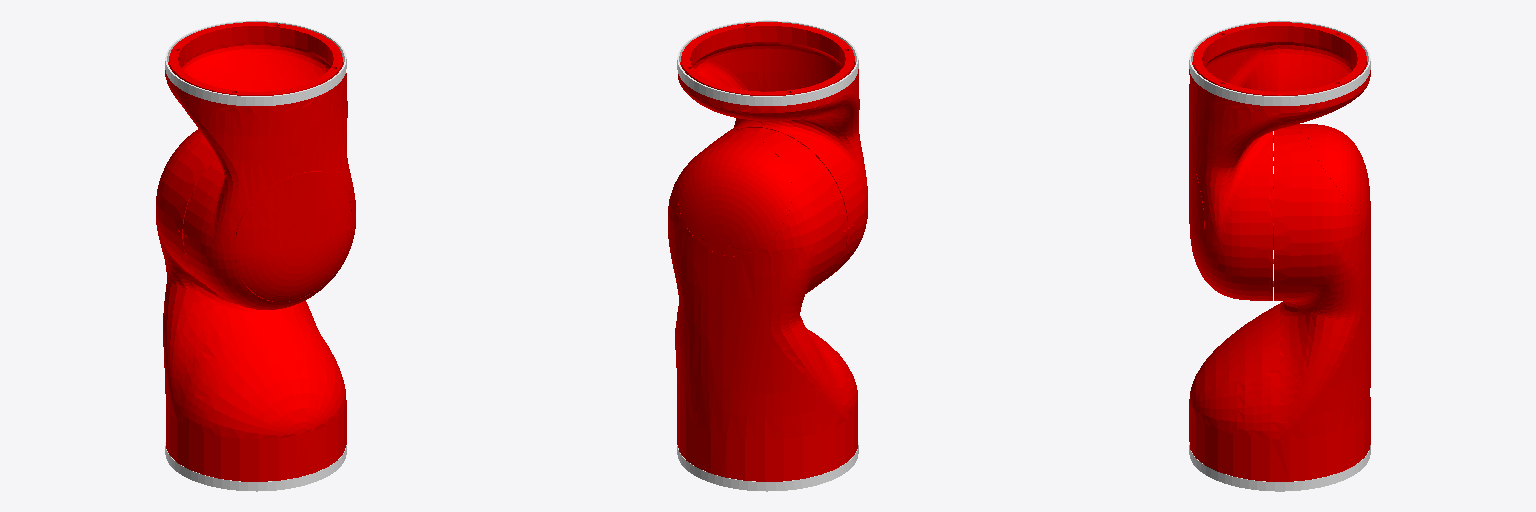
The robot description file, URDF, robot "T_module":
<robot name="T_module">

<!--the front visual link in T module-->
  <link name="VT_InLink">
    <inertial>
      <origin xyz="2.9038E-18 -2.1866E-18 0.0015" rpy="0 0 0" />
      <mass   value="8.4823E-05" />
      <inertia ixx="2.5447E-10" ixy="-1.2925E-27" ixz="4.3983E-28"
               iyy="2.5447E-10" iyz="3.5597E-27"  izz="3.817E-10" />
    </inertial>
    <visual>
      <origin   xyz="0 0 0"  rpy="0 0 0" />
      <geometry>
        <mesh   filename="package://mr_description/meshes/VT_InLink.STL" />
      </geometry>
      <material  name="">
        <color   rgba="1 1 1 1" />
      </material>
    </visual>
    <collision>
      <origin  xyz="0 0 0" rpy="0 0 0" />
      <geometry>
        <mesh filename="package://mr_description/meshes/VT_InLink.STL" />
      </geometry>
    </collision>
  </link>

<!--the front link in T module and the joint fixed with the front visual link-->
  <link  name="T_InLink">
    <inertial>
      <origin xyz="4.5327E-06 0.014724 0.10236" rpy="0 0 0" />
      <mass   value="0.8287" />
      <inertia   ixx="0.0027398"  ixy="-8.0424E-07"  ixz="-2.3991E-06"
       					 iyy="0.0028894"  iyz="0.00016467"   izz="0.00086451" />
    </inertial>
    <visual>
      <origin  xyz="0 0 0"  rpy="0 0 0" />
      <geometry>
        <mesh  filename="package://mr_description/meshes/T_InLink.STL" />
      </geometry>
      <material name="">
        <color  rgba="1 0 0 1" />
      </material>
    </visual>
    <collision>
      <origin  xyz="0 0 0"  rpy="0 0 0" />
      <geometry>
        <mesh filename="package://mr_description/meshes/T_InLink.STL" />
      </geometry>
    </collision>
  </link>
  <joint name="V_InJoint" type="fixed">
    <origin  xyz="0 0 0" rpy="0 0 0" />
    <parent  link="VT_InLink" />
    <child   link="T_InLink" />
    <axis    xyz="0 0 0" />
    <limit  lower="0" upper="0"  effort="0"  velocity="0" />
  </joint>

<!--the backend link in T module the joint in T module-->
  <link  name="T_OutLink">
    <inertial>
      <origin xyz="2.0762E-05 -0.0094284 0.014486" rpy="0 0 0" />
      <mass  value="1.4322" />
      <inertia   ixx="0.0018144"  ixy="-1.0634E-06"  ixz="9.3521E-08"
      					 iyy="0.0011673"  iyz="8.3209E-05"  izz="0.0023046" />
    </inertial>
    <visual>
      <origin  xyz="0 0 0"  rpy="0 0 0" />
      <geometry>
        <mesh  filename="package://mr_description/meshes/T_OutLink.STL" />
      </geometry>
      <material  name="">
        <color  rgba="1 0 0 1" />
      </material>
    </visual>
    <collision>
      <origin  xyz="0 0 0"  rpy="0 0 0" />
      <geometry>
        <mesh  filename="package://mr_description/meshes/T_OutLink.STL" />
      </geometry>
    </collision>
  </link>
  <joint  name="T_Joint"  type="revolute">
    <origin  xyz="0 0 0.1466"  rpy="-1.5708 1.2251E-16 -3.1416" />
    <parent  link="T_InLink" />
    <child  link="T_OutLink" />
    <axis  xyz="0 0 1" />
    <limit  lower="-2.07" upper="2.07"  effort="0"  velocity="0" />
  </joint>

<!--the back visual link in T module and the joint fixed with the back visual link-->
  <link  name="VT_OutLink">
    <inertial>
      <origin
        xyz="-2.7136E-19 9.8046E-20 -0.0015"
        rpy="0 0 0" />
      <mass
        value="8.4823E-05" />
      <inertia
        ixx="2.5447E-10"
        ixy="0"
        ixz="-1.9769E-26"
        iyy="2.5447E-10"
        iyz="9.4423E-27"
        izz="3.817E-10" />
    </inertial>
		<visual>
      <origin  xyz="0 0 0"  rpy="0 0 0" />
      <geometry>
        <mesh  filename="package://mr_description/meshes/VT_OutLink.STL" />
      </geometry>
      <material name="">
        <color  rgba="1 1 1 1" />
      </material>
    </visual>
  </link>

  <joint  name="V_OutJoint"  type="fixed">
    <origin  xyz="0 -0.0934 0"  rpy="-1.5708 -0.33352 3.1416" />
    <parent  link="T_OutLink" />
    <child  link="VT_OutLink" />
    <axis  xyz="0 0 0" />
    <limit  lower="0"  upper="0"  effort="0"  velocity="0" />
    <calibration  rising="0"  falling="0" />
    <dynamics  damping="0"  friction="0" />
    <safety_controller  soft_upper="0"  soft_lower="0"  k_position="0"  k_velocity="0" />
  </joint>
</robot>

--- What the picture shows (computed from the rendered views, not written in the file) ---
3 views of the same robot in one strip: view 1: azimuth 30°, elevation 25°; view 2: azimuth 150°, elevation 25°; view 3: azimuth 270°, elevation 25° (orthographic).
Robot: T_module — 4 links, 3 joints (1 revolute, 2 fixed); root link VT_InLink; default pose: all joints at 0.
Visible links, largest first — view 1: T_OutLink, T_InLink, VT_OutLink, VT_InLink; view 2: T_InLink, T_OutLink, VT_OutLink, VT_InLink; view 3: T_InLink, T_OutLink, VT_OutLink, VT_InLink.
Link boxes in pixels (box(x1,y1,x2,y2)): T_OutLink: box(165, 22, 355, 309); T_InLink: box(156, 129, 346, 481); VT_OutLink: box(165, 20, 346, 105); VT_InLink: box(165, 442, 346, 491); T_InLink: box(668, 128, 857, 481); T_OutLink: box(678, 22, 867, 280); VT_OutLink: box(677, 20, 858, 105); VT_InLink: box(677, 442, 858, 491); T_InLink: box(1189, 124, 1370, 481); T_OutLink: box(1189, 22, 1370, 300); VT_OutLink: box(1189, 20, 1370, 105); VT_InLink: box(1189, 443, 1370, 491).
Bounding box of the posed robot: 0.1 × 0.1 × 0.24 m (x, y, z).
4 mesh visuals loaded from 4 distinct referenced files (4 binary STL).
